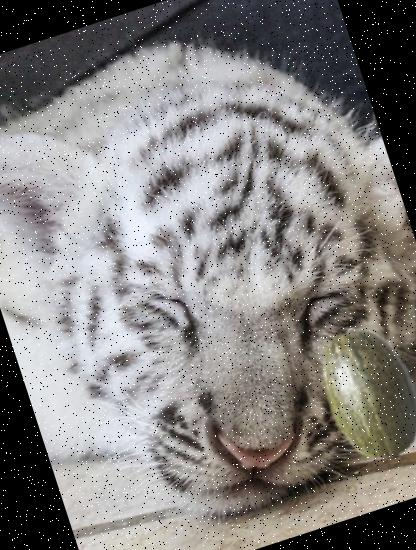Melon: (284, 306, 416, 480)
